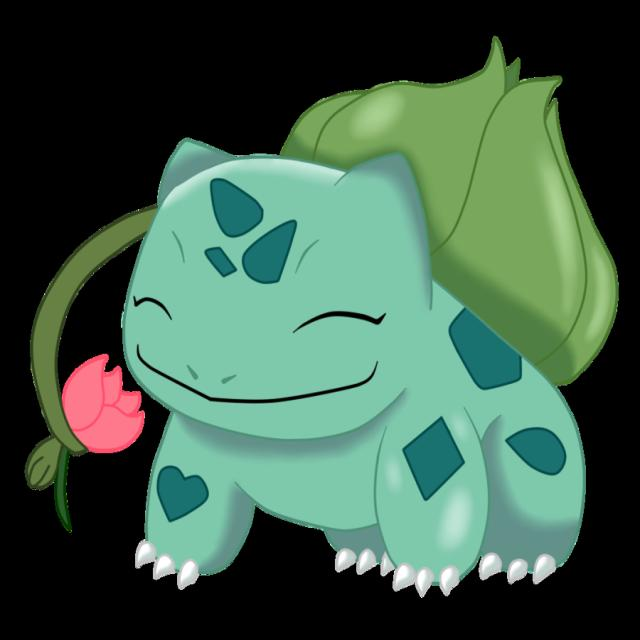Bulbasaur: (123, 138, 562, 572)
